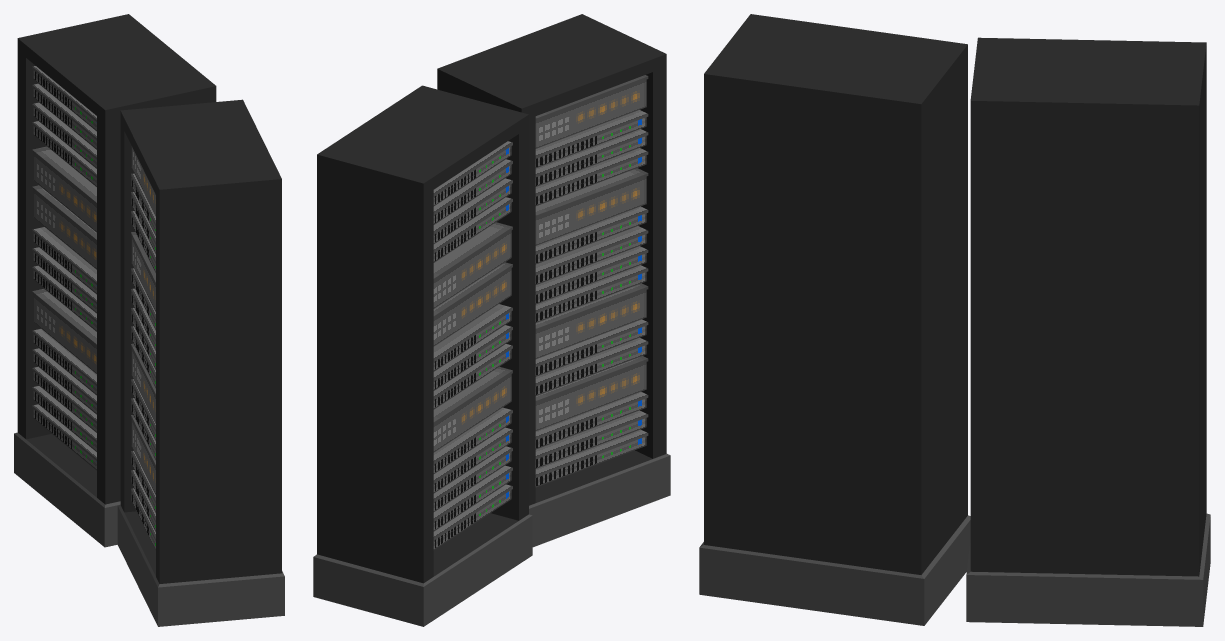
The model's file is servers.glb.
3 views of the same model, side by side, from view 1: azimuth 30°, elevation 25°; view 2: azimuth 150°, elevation 25°; view 3: azimuth 270°, elevation 25° (orthographic). The views are drawn at different scales.
Parts seen in each view (by area): view 1: Servers; view 2: Servers; view 3: Servers.
Boxes of the visible parts, bbox=[...] form: Servers: bbox=[14, 14, 284, 626]; Servers: bbox=[313, 14, 670, 626]; Servers: bbox=[699, 14, 1210, 626].
Bounding box in the file's own units: 0.388 × 0.9977 × 0.8891.
4 materials, 2 textured.
